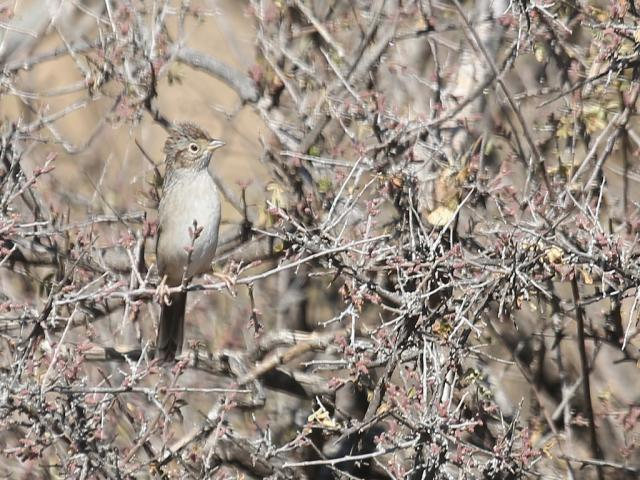Bird: (136, 120, 227, 368)
